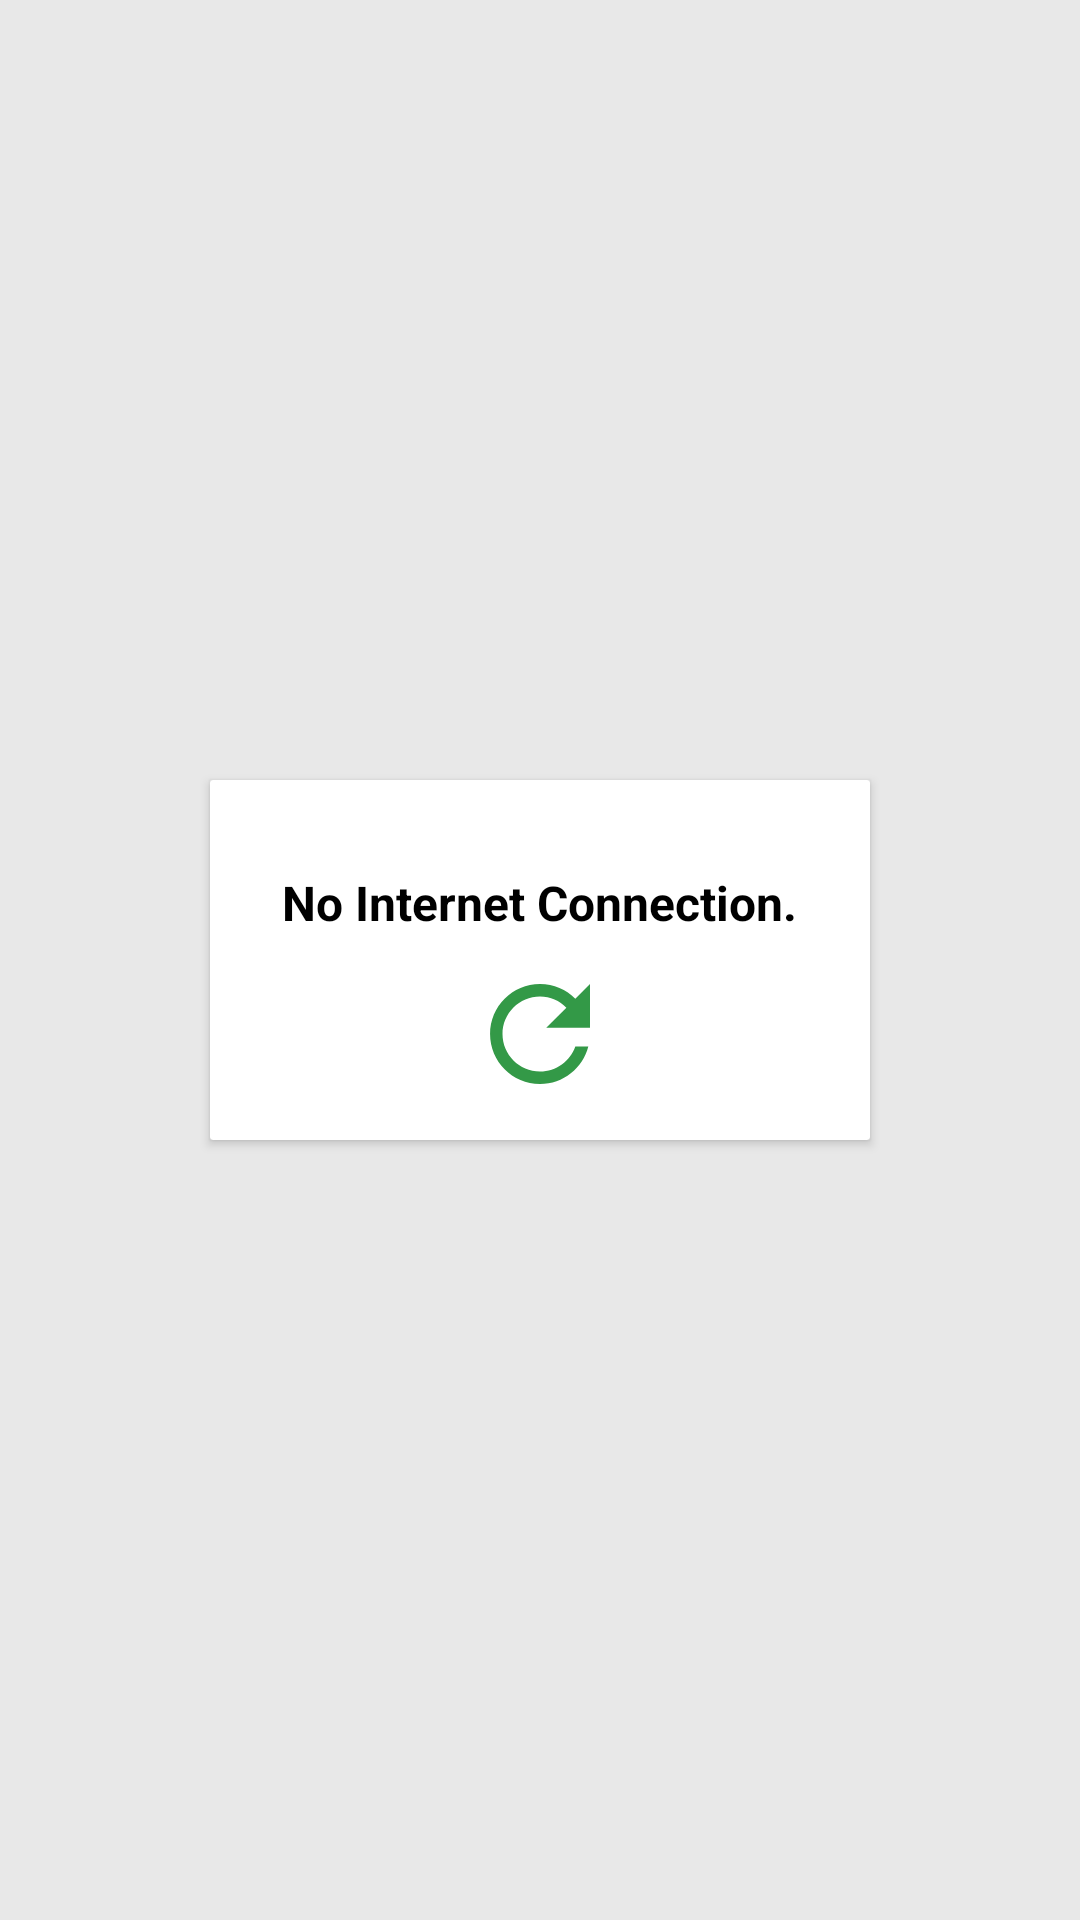

Screen size 1080w x 1920h. Icon name, then its center in pixels as (x=x, y=y):
refresh: (x=540, y=1034)
